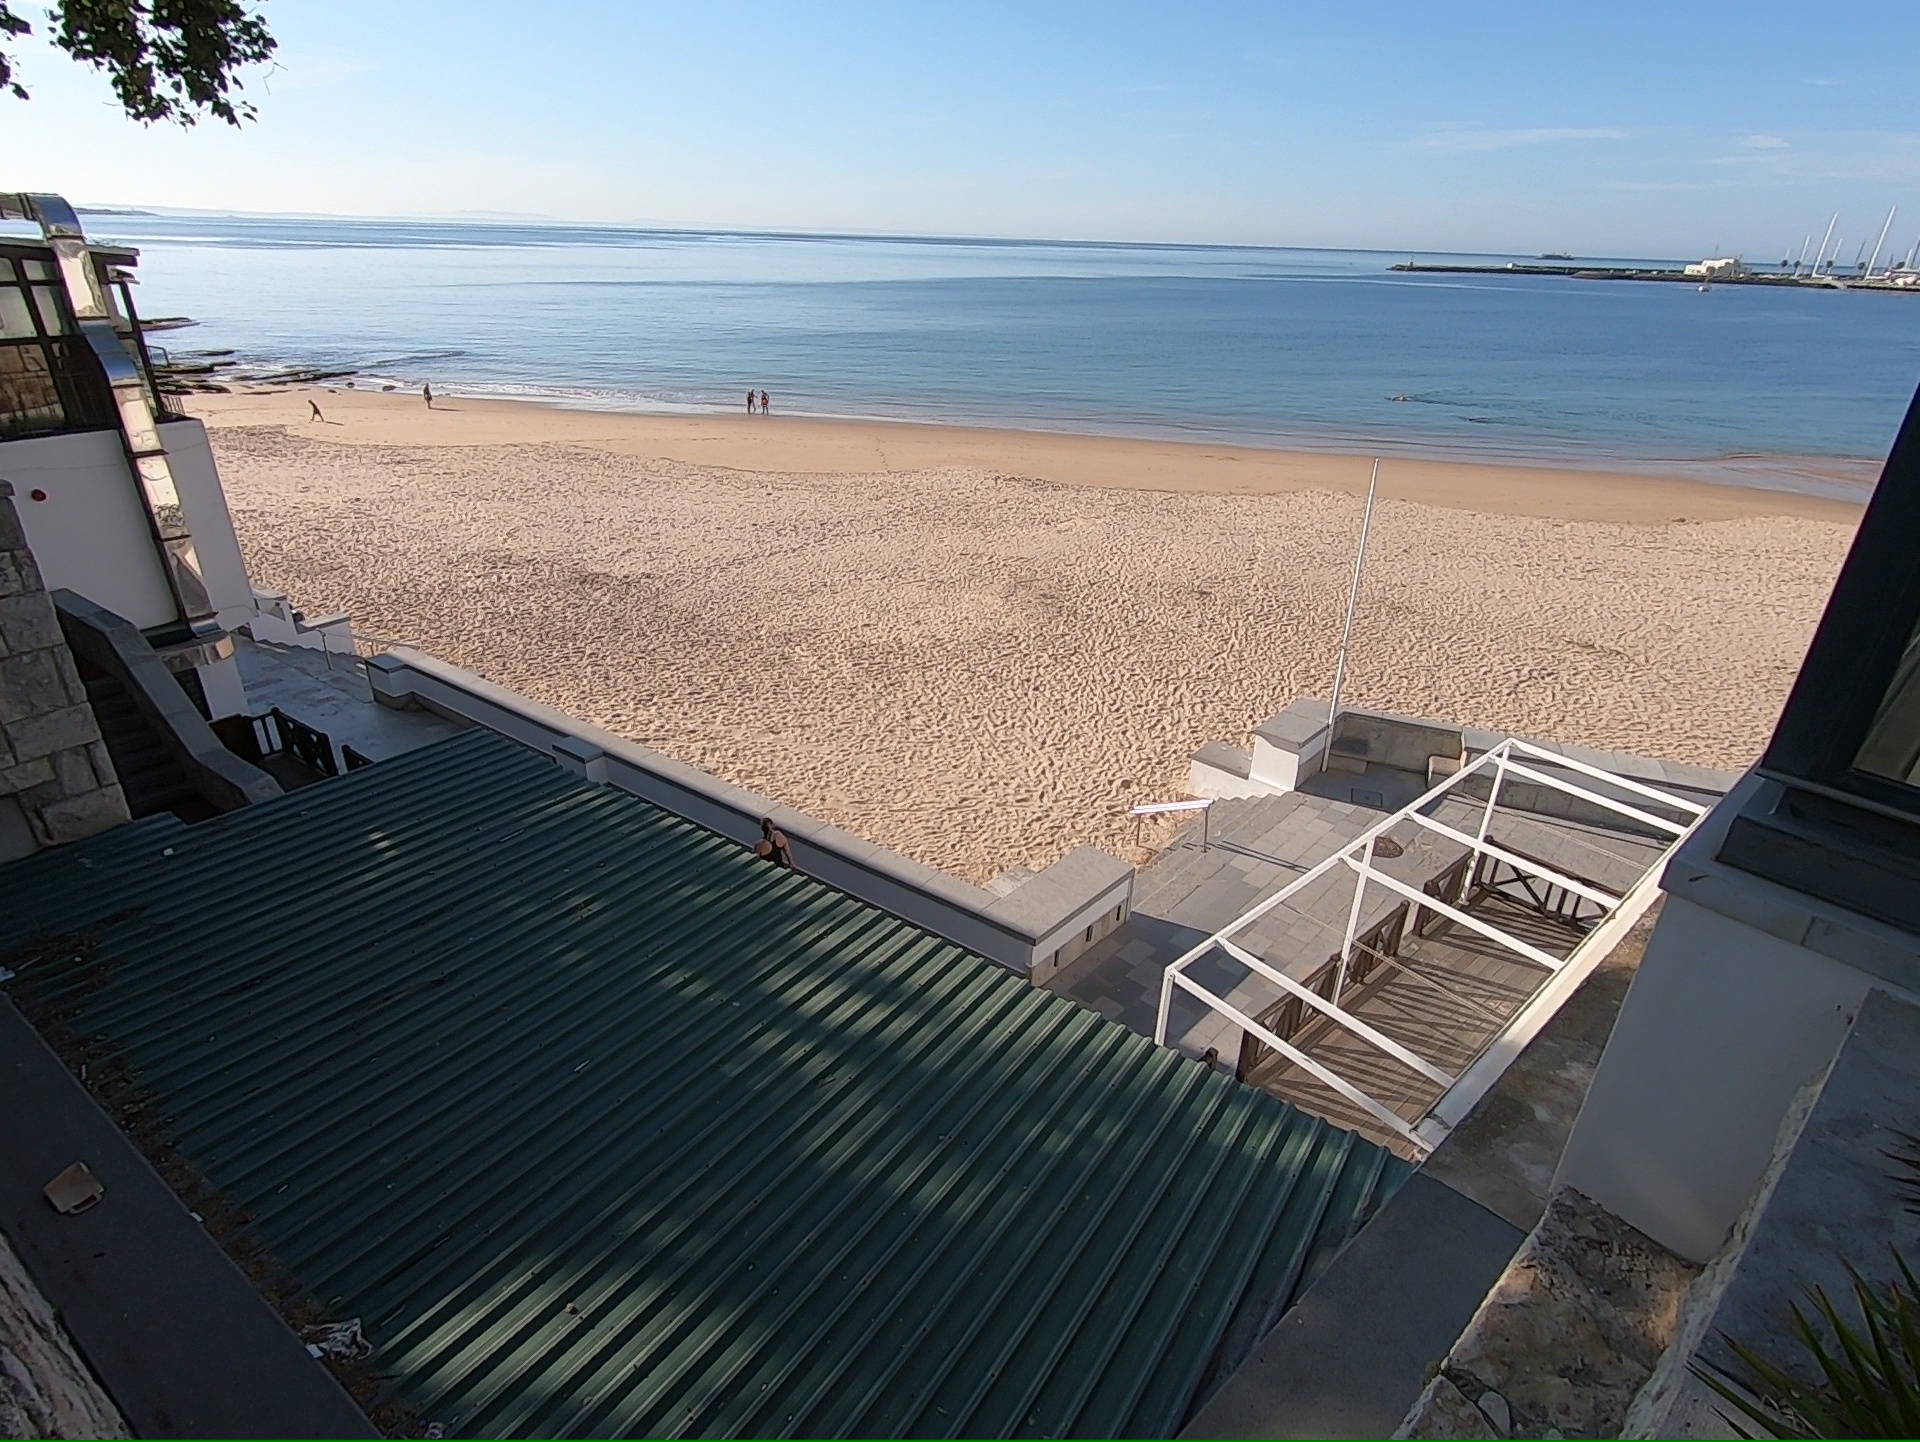person: (305, 400, 326, 422), (745, 385, 757, 417), (420, 384, 435, 409), (760, 387, 772, 417)
